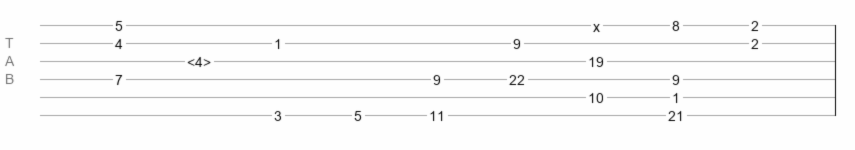1: (274, 36, 282, 46), (672, 90, 680, 100)
10: (588, 90, 604, 100)
11: (429, 108, 445, 118)
19: (588, 54, 604, 64)
2: (751, 18, 759, 28), (751, 36, 759, 46)
21: (668, 108, 684, 118)
22: (509, 72, 525, 82)
3: (274, 108, 282, 118)
4: (115, 36, 123, 46)
5: (115, 18, 123, 28), (354, 108, 362, 118)
7: (115, 72, 123, 82)
8: (672, 18, 680, 28)
9: (433, 72, 441, 82), (513, 36, 521, 46), (672, 72, 680, 82)
harmonic: (187, 54, 211, 64)
x: (593, 19, 600, 27)
